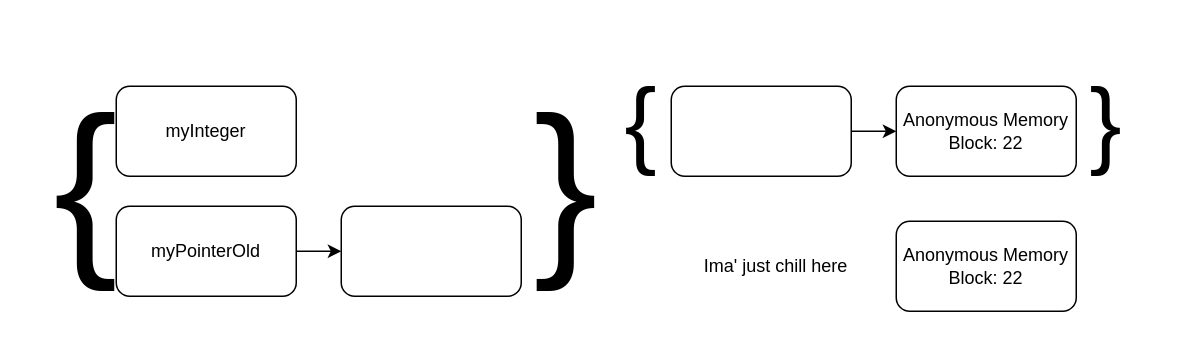
The diagram is 1191 pixels wide and 338 high, and some of its shapes have lost their labels. The shapes that lost their labels are listed below. From the top down, each one's centre as x and y in pixels, then its label:
the point at 760,130: myPointer
the point at 430,250: myInteger:22
